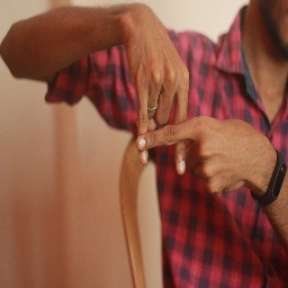H: (114, 71, 224, 183)
